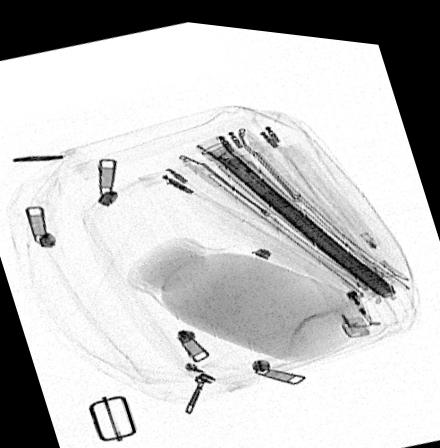Lighter: (302, 246, 382, 329)
